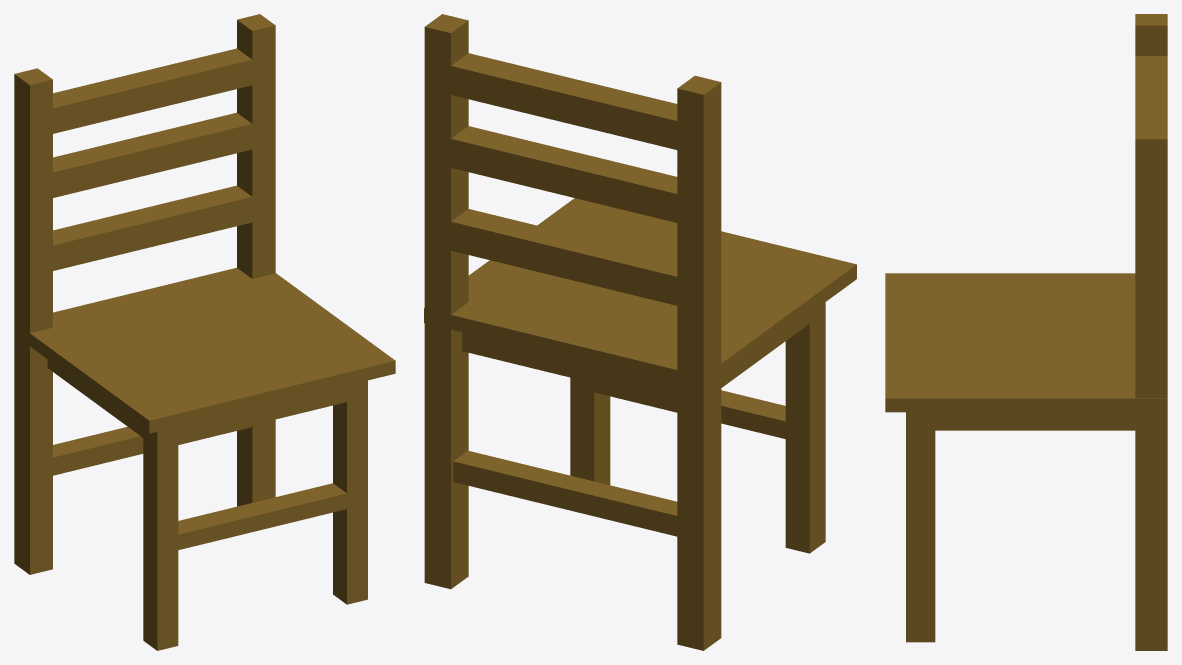
The model's file is asset.gltf.
The picture shows the model from 3 angles, left to right: view 1: azimuth 30°, elevation 25°; view 2: azimuth 150°, elevation 25°; view 3: azimuth 270°, elevation 25°; orthographic projection. The views are drawn at different scales.
Parts seen in each view (by area): view 1: Cube_0; view 2: Cube_0; view 3: Cube_0.
Part boxes in pixels (x1,y1,x2,y2): Cube_0: (14, 14, 395, 650); Cube_0: (424, 14, 856, 650); Cube_0: (885, 14, 1167, 650).
Bounding box in the file's own units: 1.87 × 3.55 × 1.77.
